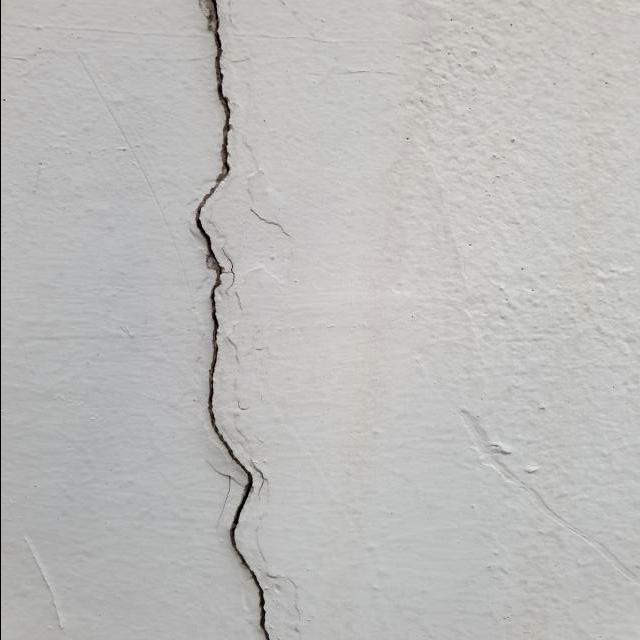SurfaceCrack: (167, 5, 325, 640)
